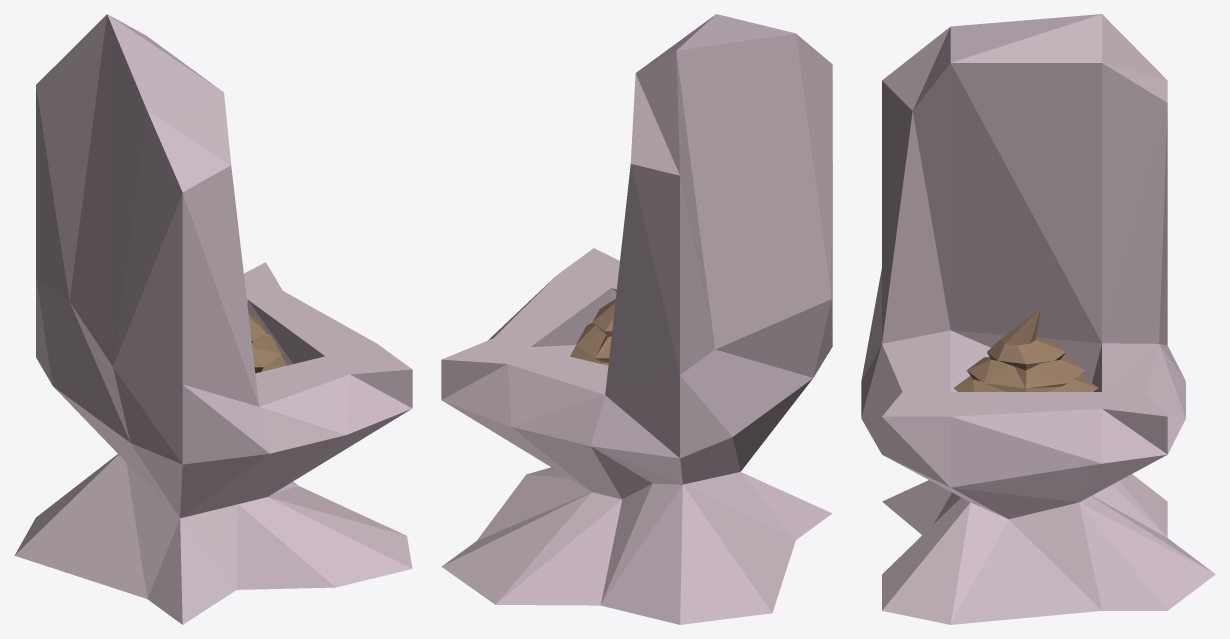
Rendered from toilet.fbx.
3 views of the same model, side by side, from view 1: azimuth 30°, elevation 25°; view 2: azimuth 150°, elevation 25°; view 3: azimuth 270°, elevation 25° (orthographic). The views are drawn at different scales.
Visible parts, largest first — view 1: pCylinder2; view 2: pCylinder2; view 3: pCylinder2.
Part boxes in pixels (x1,y1,x2,y2): pCylinder2: (14, 14, 412, 624); pCylinder2: (441, 14, 832, 624); pCylinder2: (861, 14, 1215, 624).
Size of the model in its own units: 0.0548 by 0.0863 by 0.0549.
